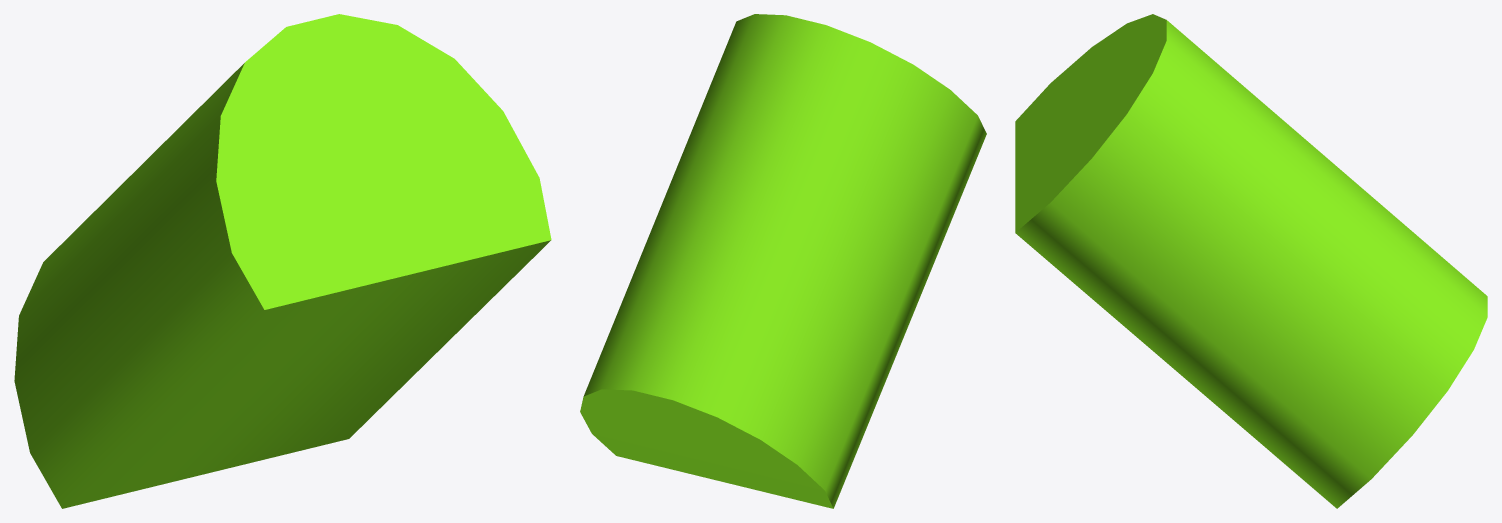
File: Liquid.fbx
3 views of the same model, side by side, from view 1: azimuth 30°, elevation 25°; view 2: azimuth 150°, elevation 25°; view 3: azimuth 270°, elevation 25° (orthographic). The views are drawn at different scales.
Parts seen in each view (by area): view 1: Liquid; view 2: Liquid; view 3: Liquid.
Boxes of the visible parts, <box> form: Liquid: <box>14,14,551,508</box>; Liquid: <box>580,14,986,508</box>; Liquid: <box>1015,14,1487,508</box>.
Size of the model in its own units: 2.58 by 4.26 by 4.32.
